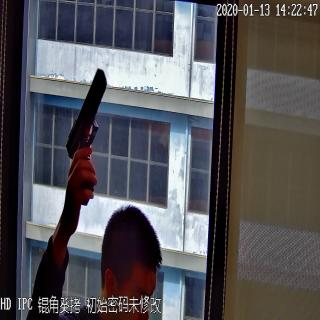gun: (59, 67, 108, 213)
